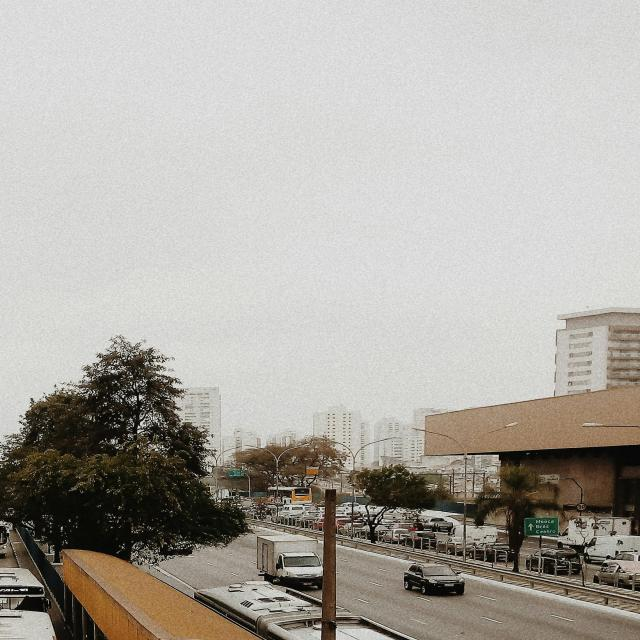bus: (193, 579, 530, 640), (0, 564, 50, 610), (0, 608, 69, 640), (0, 530, 2, 576)
car: (403, 562, 465, 595)
van: (252, 532, 325, 589)
